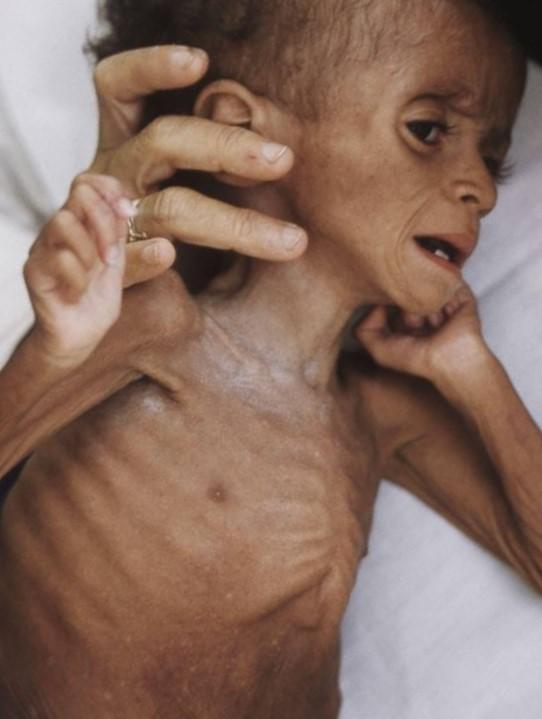Stunting: (160, 0, 542, 368)
